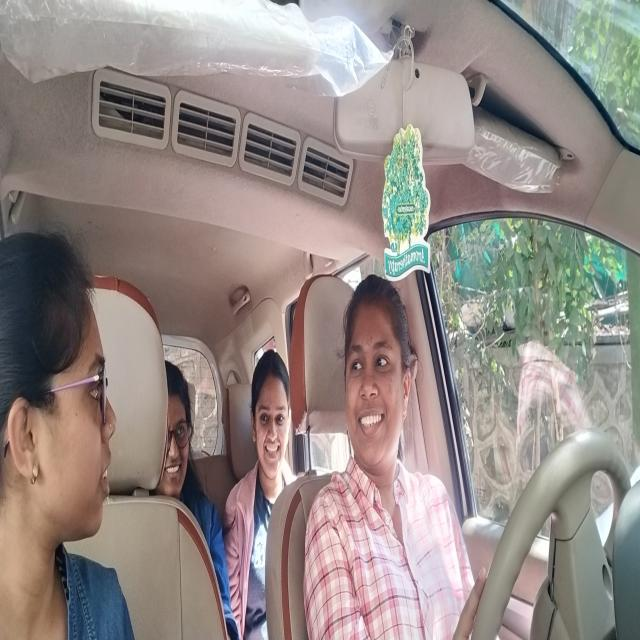LeftRight: (341, 271, 414, 482)
person: (1, 229, 119, 552), (159, 356, 197, 501), (249, 349, 291, 480)
talking: (96, 443, 116, 501), (356, 400, 388, 434)
